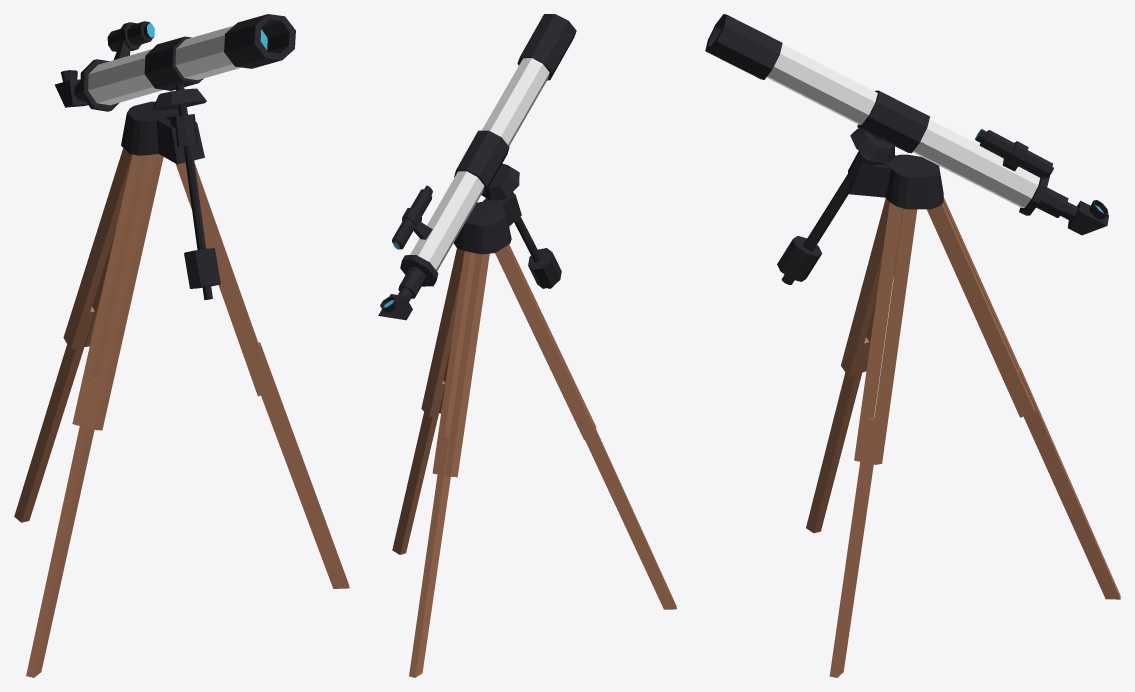
Rendered from Telescope.fbx.
3 renders of one model, left to right at view 1: azimuth 30°, elevation 25°; view 2: azimuth 150°, elevation 25°; view 3: azimuth 270°, elevation 25°, orthographic. The views are drawn at different scales.
Parts seen in each view (by area): view 1: Telescope; view 2: Telescope; view 3: Telescope.
Boxes of the visible parts, x1,y1,x2,y2 form: Telescope: [14, 14, 349, 677]; Telescope: [378, 14, 676, 677]; Telescope: [705, 14, 1120, 677].
Bounding box in the file's own units: 0.5127 × 0.9454 × 0.5937.
Materials: 1 (1 with a texture image).
